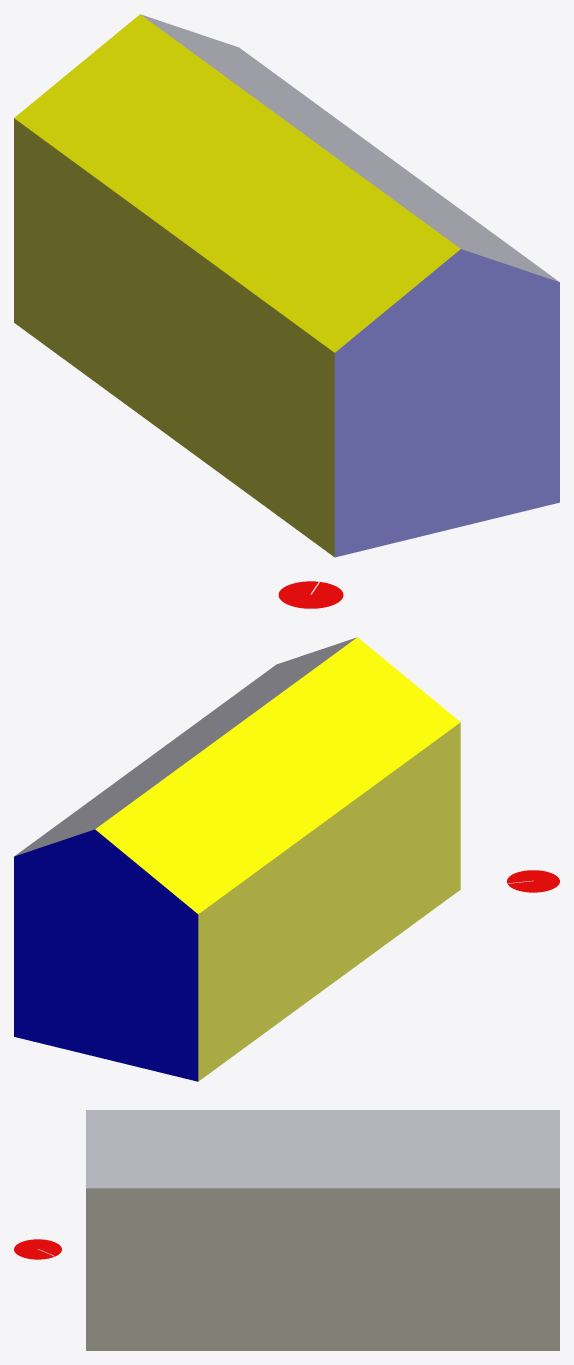
Rendered from result.glb.
The picture shows the model from 3 angles, top to bottom: view 1: azimuth 30°, elevation 25°; view 2: azimuth 150°, elevation 25°; view 3: azimuth 270°, elevation 25°; orthographic projection. The views are drawn at different scales.
Visible parts, largest first — view 1: 7b5b3572-4310-428c-b2dc-28ce0561f8db__undefined, 71a32a00-7f1e-458d-bd05-cd42ddf7a089__undefined, 301e94b8-0839-46cf-9f12-6adb04afefeb__undefined, 19a6370a-1886-4cab-b42f-9bbf1e5f9aeb__undefined, 432ba592-6e54-4ab1-a9a4-154f154d3f01__Circle; view 2: 7b5b3572-4310-428c-b2dc-28ce0561f8db__undefined, 71a32a00-7f1e-458d-bd05-cd42ddf7a089__undefined, ddadac11-ffc2-4938-888a-5528e30a038b__undefined, 19a6370a-1886-4cab-b42f-9bbf1e5f9aeb__undefined, 432ba592-6e54-4ab1-a9a4-154f154d3f01__Circle; view 3: e8225adf-bb6e-4946-bf29-33cb6d5d9916__undefined, 19a6370a-1886-4cab-b42f-9bbf1e5f9aeb__undefined, 432ba592-6e54-4ab1-a9a4-154f154d3f01__Circle.
Part boxes in pixels (bbox=[...]): 7b5b3572-4310-428c-b2dc-28ce0561f8db__undefined: bbox=[14, 118, 334, 556]; 71a32a00-7f1e-458d-bd05-cd42ddf7a089__undefined: bbox=[14, 14, 460, 352]; 301e94b8-0839-46cf-9f12-6adb04afefeb__undefined: bbox=[334, 249, 559, 557]; 19a6370a-1886-4cab-b42f-9bbf1e5f9aeb__undefined: bbox=[141, 14, 558, 281]; 432ba592-6e54-4ab1-a9a4-154f154d3f01__Circle: bbox=[278, 581, 343, 608]; 7b5b3572-4310-428c-b2dc-28ce0561f8db__undefined: bbox=[198, 722, 460, 1081]; 71a32a00-7f1e-458d-bd05-cd42ddf7a089__undefined: bbox=[95, 637, 460, 914]; ddadac11-ffc2-4938-888a-5528e30a038b__undefined: bbox=[14, 829, 198, 1081]; 19a6370a-1886-4cab-b42f-9bbf1e5f9aeb__undefined: bbox=[14, 637, 356, 856]; 432ba592-6e54-4ab1-a9a4-154f154d3f01__Circle: bbox=[507, 870, 559, 892]; e8225adf-bb6e-4946-bf29-33cb6d5d9916__undefined: bbox=[86, 1188, 559, 1350]; 19a6370a-1886-4cab-b42f-9bbf1e5f9aeb__undefined: bbox=[86, 1110, 559, 1188]; 432ba592-6e54-4ab1-a9a4-154f154d3f01__Circle: bbox=[14, 1239, 61, 1259].
Bounding box in the file's own units: 550 × 471 × 1137.
